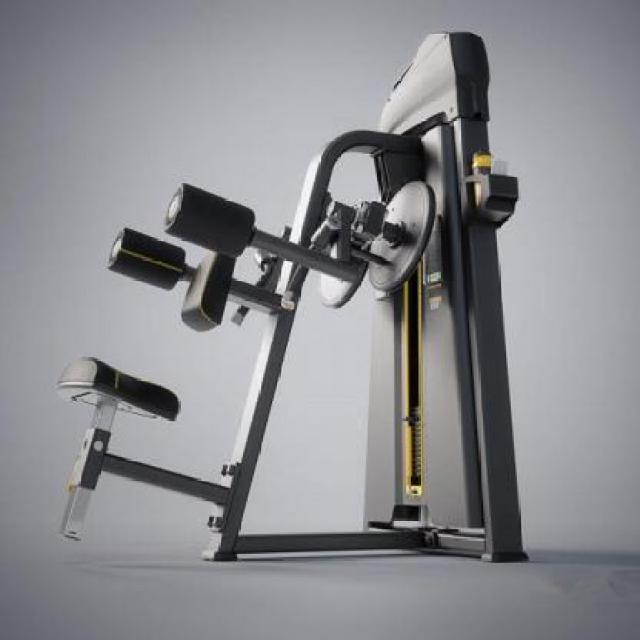lateral raises machine: (51, 31, 531, 563)
